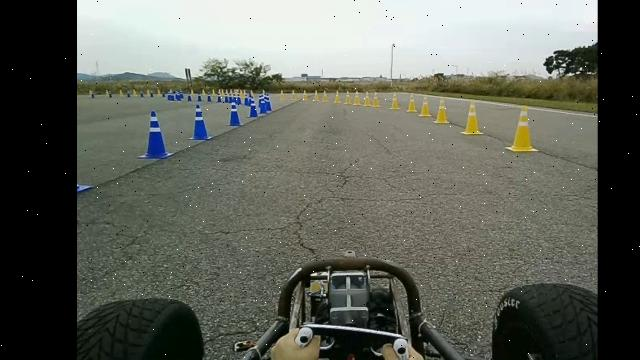blue cone: (138, 110, 174, 159), (188, 104, 212, 140), (225, 102, 242, 127), (247, 102, 258, 118)
yellow cone: (505, 105, 539, 152), (460, 99, 483, 135), (433, 99, 450, 124), (418, 95, 432, 117), (406, 93, 417, 112), (389, 92, 400, 109), (362, 90, 372, 106), (372, 91, 380, 108), (352, 90, 361, 105), (343, 89, 351, 105), (333, 90, 341, 103)
